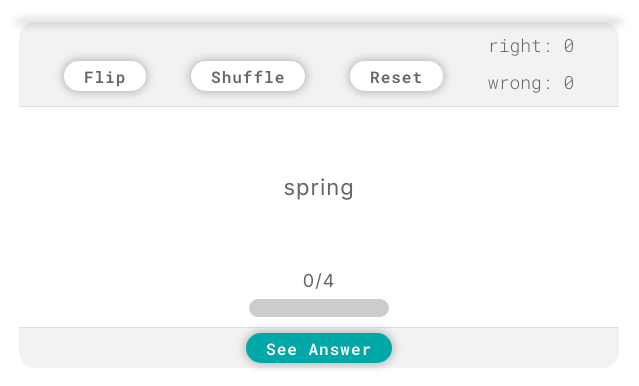
learn › veryfying answer › should be able to flip card
Click the button "See Answer": (319,348) left=246, top=333, right=392, bottom=363
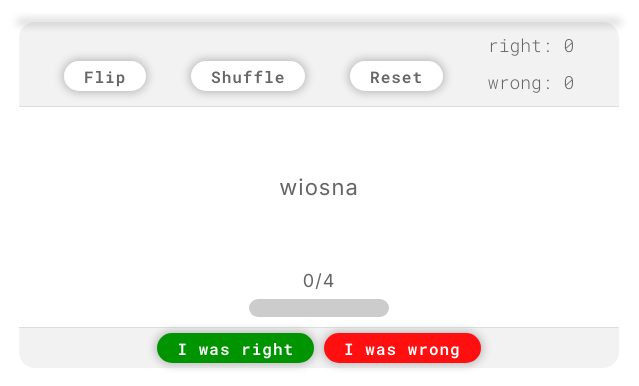
Click the button "Flip": (105,76) left=64, top=61, right=146, bottom=91
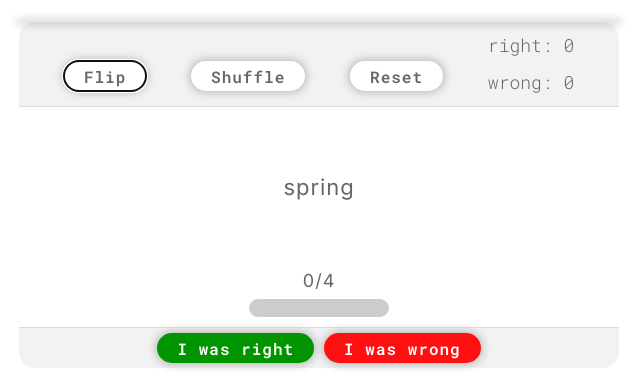
Expected: the text "spring" is shown, left=283, top=170, right=355, bottom=204
